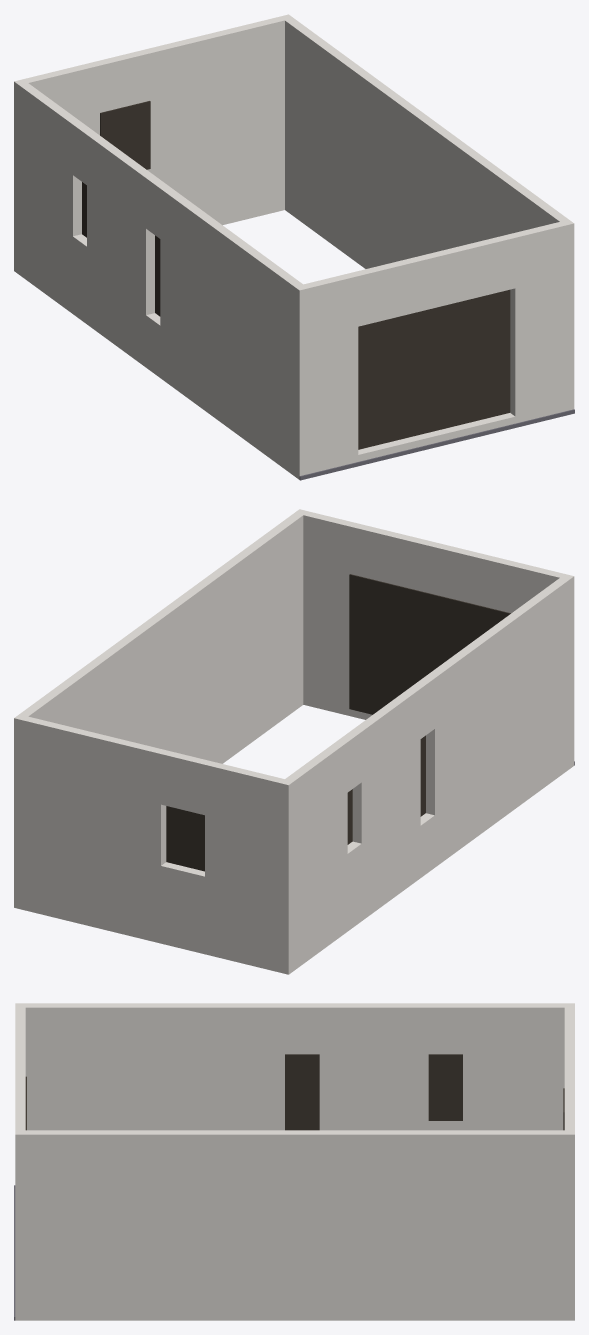
The model's file is SM_Floor_NarrowUpperBalconyEndL_White_455_Back_01.gltf.
3 views of the same model, one above another, from view 1: azimuth 30°, elevation 25°; view 2: azimuth 150°, elevation 25°; view 3: azimuth 270°, elevation 25° (orthographic). The views are drawn at different scales.
Parts seen in each view (by area): view 1: SM_Floor_NarrowUpperBalconyEndL_White_455_Back_01; view 2: SM_Floor_NarrowUpperBalconyEndL_White_455_Back_01; view 3: SM_Floor_NarrowUpperBalconyEndL_White_455_Back_01.
Boxes of the visible parts, <box> form: SM_Floor_NarrowUpperBalconyEndL_White_455_Back_01: <box>14,14,574,480</box>; SM_Floor_NarrowUpperBalconyEndL_White_455_Back_01: <box>14,509,574,974</box>; SM_Floor_NarrowUpperBalconyEndL_White_455_Back_01: <box>14,1003,574,1320</box>.
Bounding box in the file's own units: 4.55 × 3 × 8.21.
Materials: 1 (1 with a texture image).
